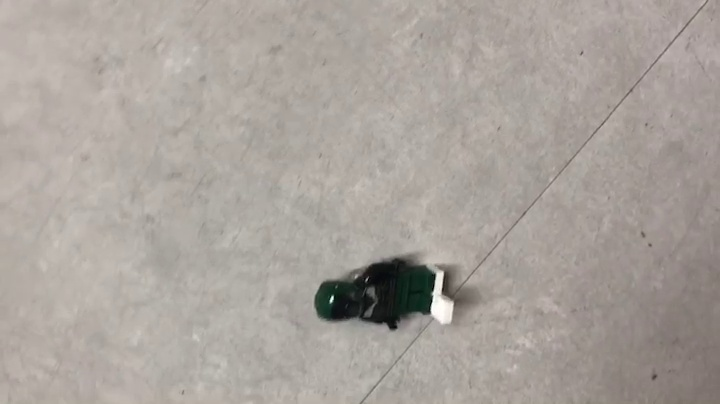people: (313, 257, 457, 332)
